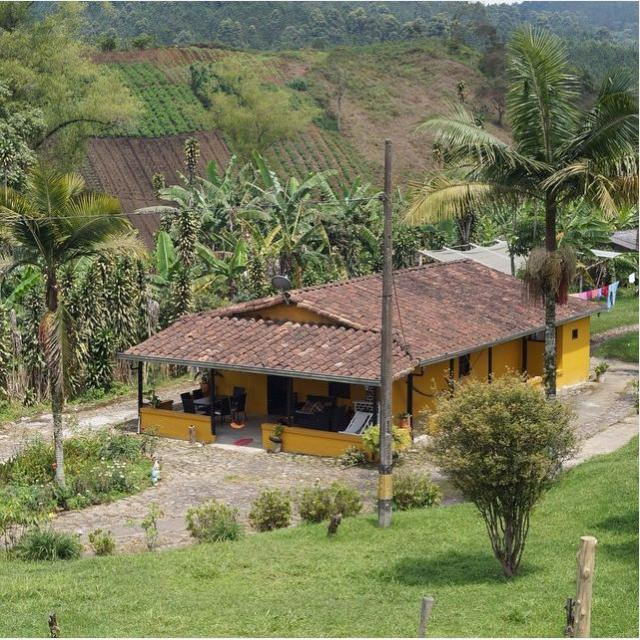Casa: (119, 260, 544, 498)
Poste: (377, 140, 392, 527)
